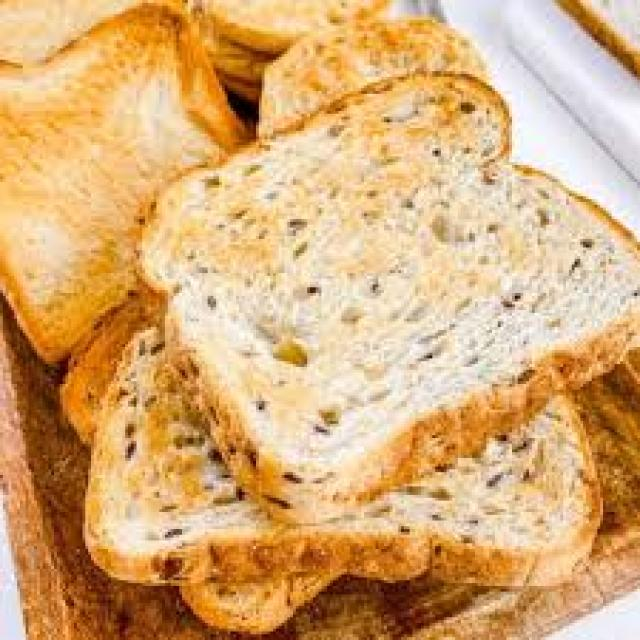Bread: (145, 75, 640, 509), (90, 329, 601, 628), (0, 8, 238, 362), (258, 18, 486, 137)
